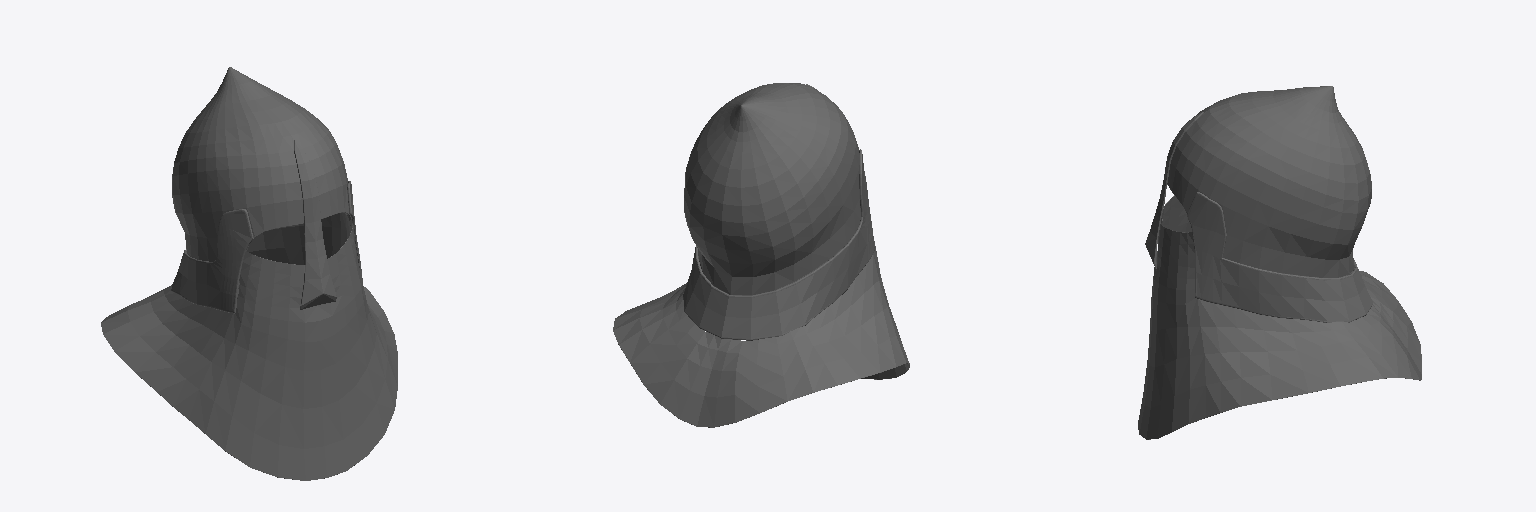
Rendered from Nanosnik.obj.
3 renders of one model, left to right at view 1: azimuth 30°, elevation 25°; view 2: azimuth 150°, elevation 25°; view 3: azimuth 270°, elevation 25°, orthographic.
Parts seen in each view (by area): view 1: Sphere001; view 2: Sphere001; view 3: Sphere001.
Boxes of the visible parts, box(x1,y1,x2,y2) form: Sphere001: box(101, 67, 397, 480); Sphere001: box(613, 83, 909, 427); Sphere001: box(1138, 86, 1421, 439).
Size of the model in its own units: 1.6 by 2.05 by 1.56.